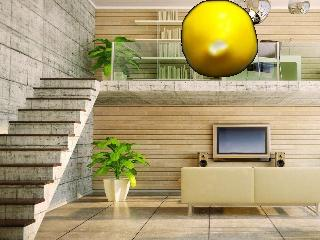lemon: (182, 0, 257, 76)
